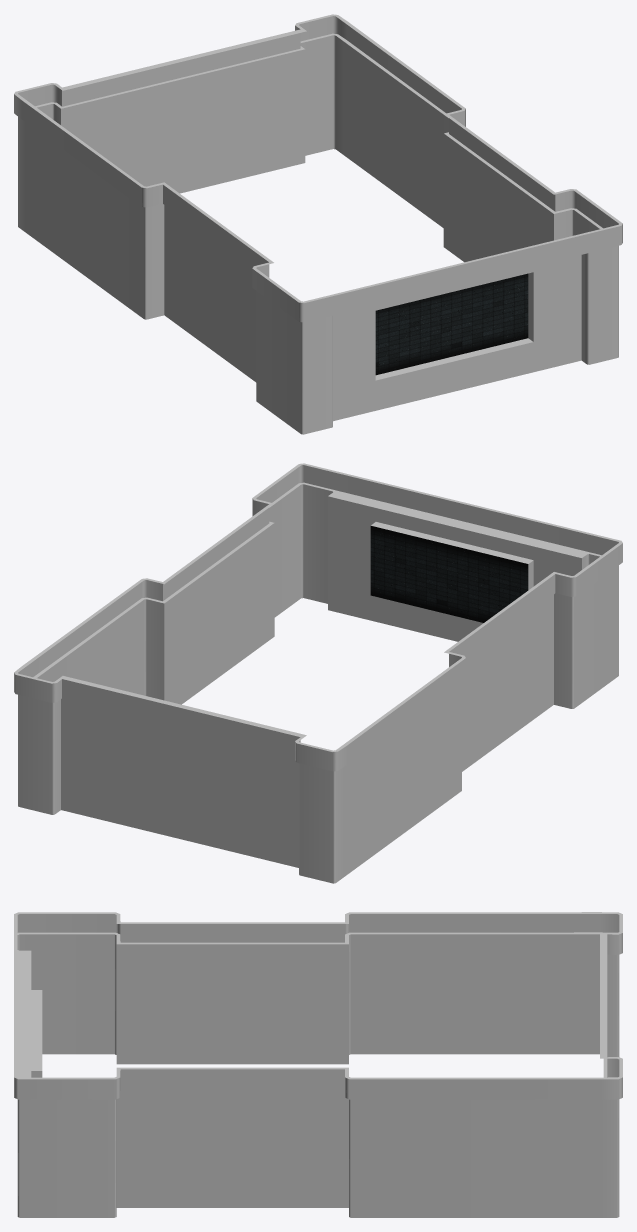
File: Build10_1A.fbx
3 views of the same model, one above another, from view 1: azimuth 30°, elevation 25°; view 2: azimuth 150°, elevation 25°; view 3: azimuth 270°, elevation 25° (orthographic). The views are drawn at different scales.
Parts seen in each view (by area): view 1: polySurface720; view 2: polySurface720; view 3: polySurface720.
Boxes of the visible parts, x1,y1,x2,y2 form: polySurface720: (14,14,622,434); polySurface720: (14,463,622,883); polySurface720: (14,912,622,1217).
Size of the model in its own units: 10.23 by 4 by 15.74.
